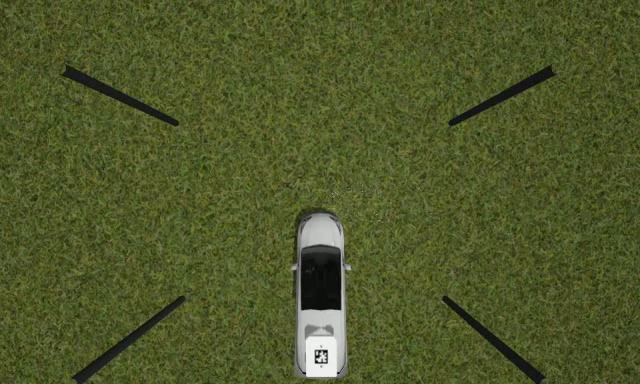Car: (298, 211, 348, 379)
Landing Pad: (306, 336, 338, 377)
